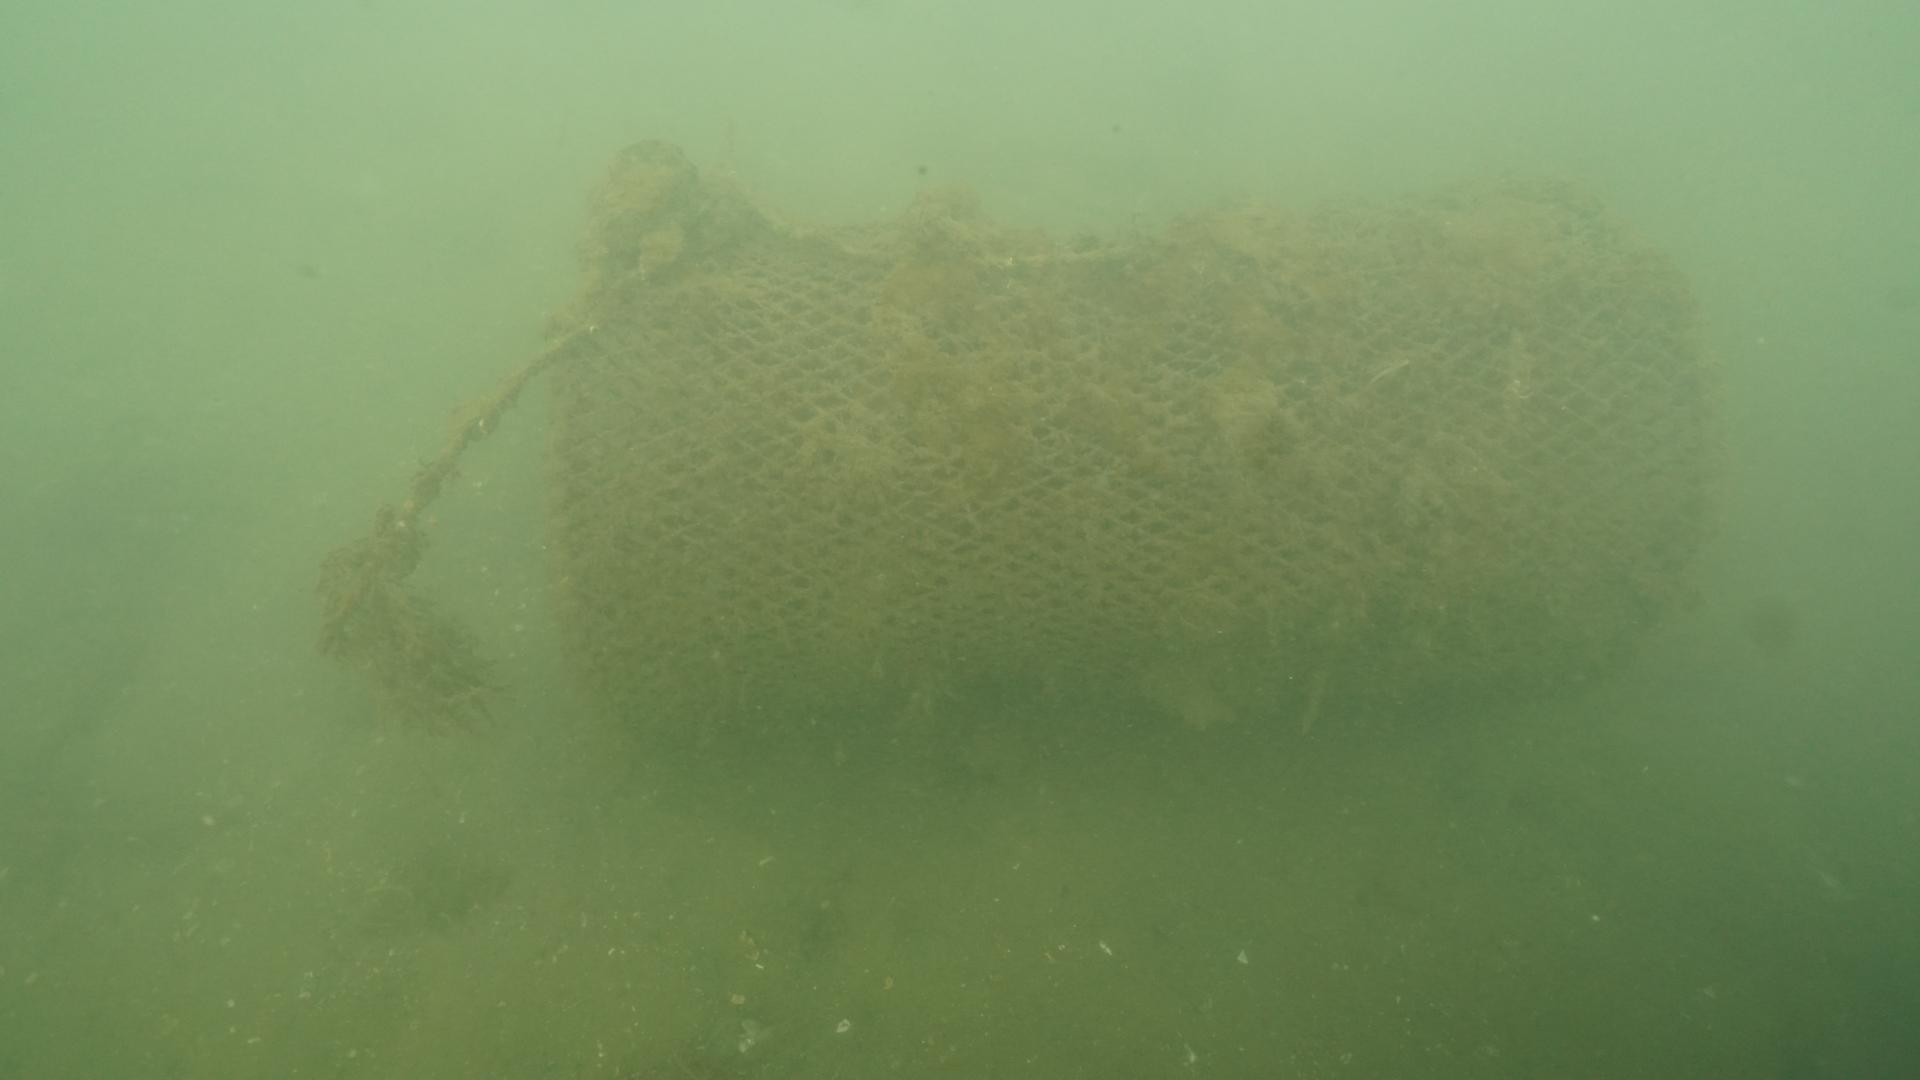spring fish trap: (541, 229, 1721, 760)
